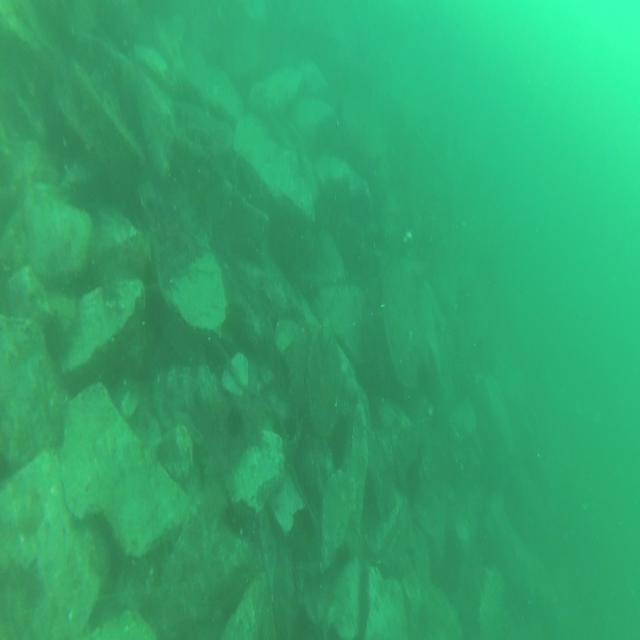echinus: (412, 359, 434, 388), (224, 405, 243, 438), (334, 538, 352, 570)
